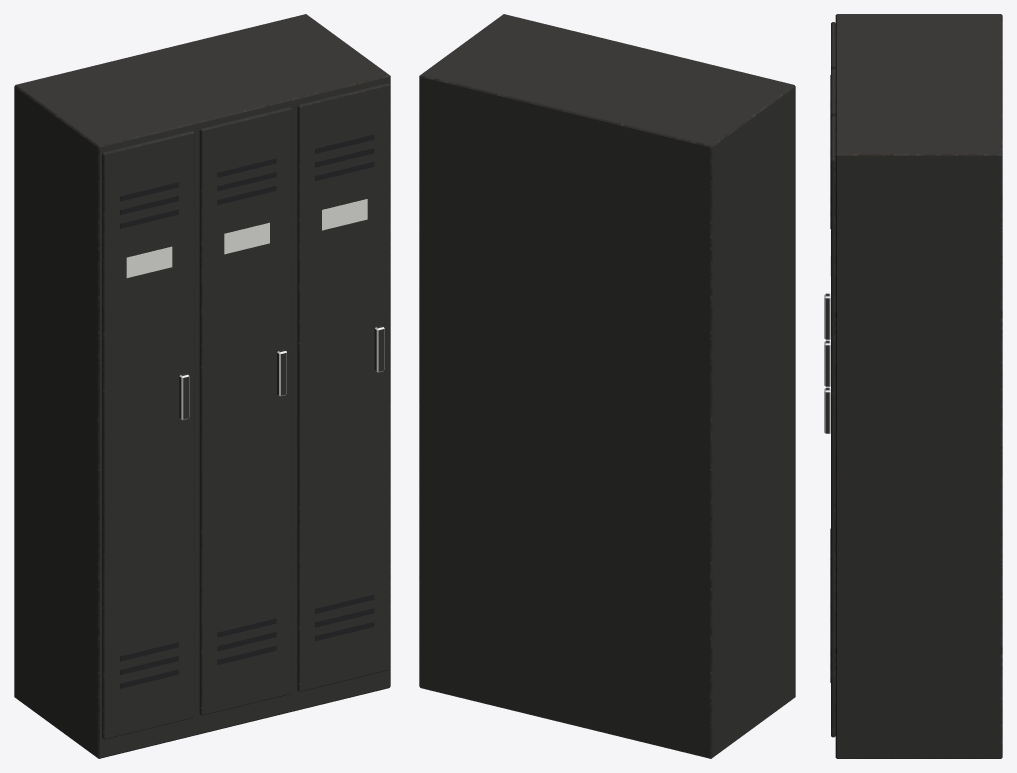
File: lockers.glb
3 renders of one model, left to right at view 1: azimuth 30°, elevation 25°; view 2: azimuth 150°, elevation 25°; view 3: azimuth 270°, elevation 25°, orthographic.
Visible parts, largest first — view 1: lockers; view 2: lockers; view 3: lockers.
Boxes of the visible parts, x1=… form: lockers: x1=14, y1=14, x2=390, y2=758; lockers: x1=419, y1=14, x2=795, y2=758; lockers: x1=824, y1=14, x2=1002, y2=758.
Size of the model in its own units: 0.9 by 1.8 by 0.48.
Materials: 4 (1 with a texture image).
